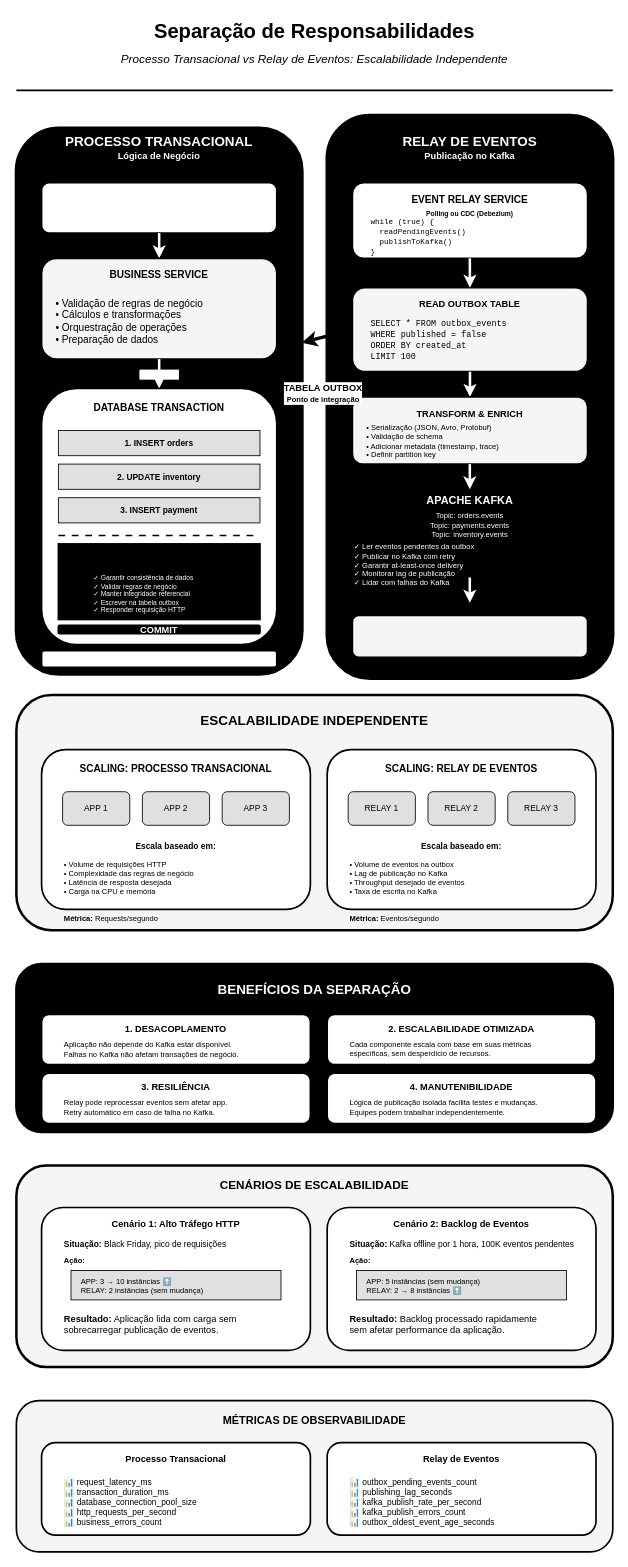
This 628x1567 diagram has some shape labels left out. The box of each missing label's shape, as (x1, y1, x2, y2) in pixels:
4. INSERT outbox_events {event_type, payload, published=false}: (57, 543, 260, 620)
HTTP REQUEST POST /api/orders: (40, 181, 277, 234)
RESPONSABILIDADES: (40, 649, 277, 668)
UPDATE OUTBOX SET published = true, published_at = NOW(): (351, 614, 588, 658)
